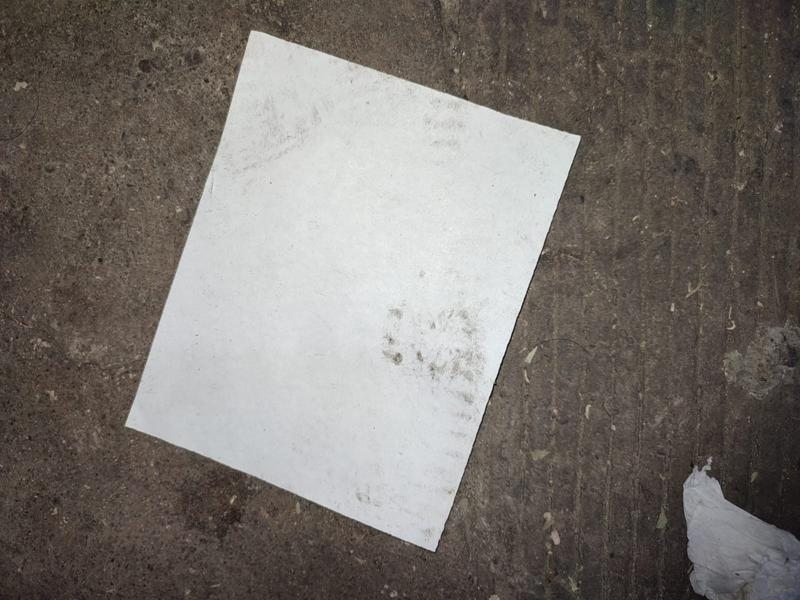papel: (124, 31, 581, 552)
